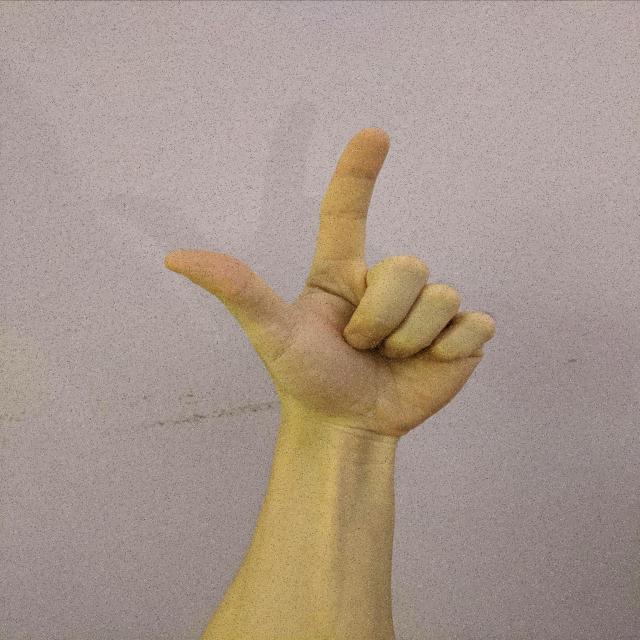L: (152, 121, 504, 443)
